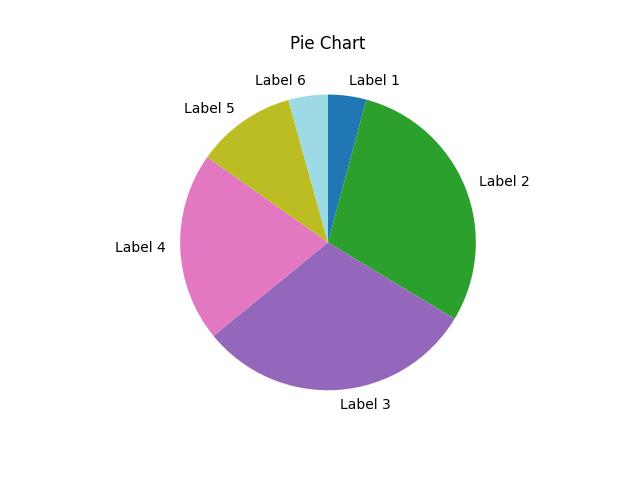sector: (214, 241, 453, 392), (328, 97, 478, 317), (179, 158, 328, 337), (205, 99, 329, 243), (327, 93, 367, 243), (290, 93, 329, 243)
